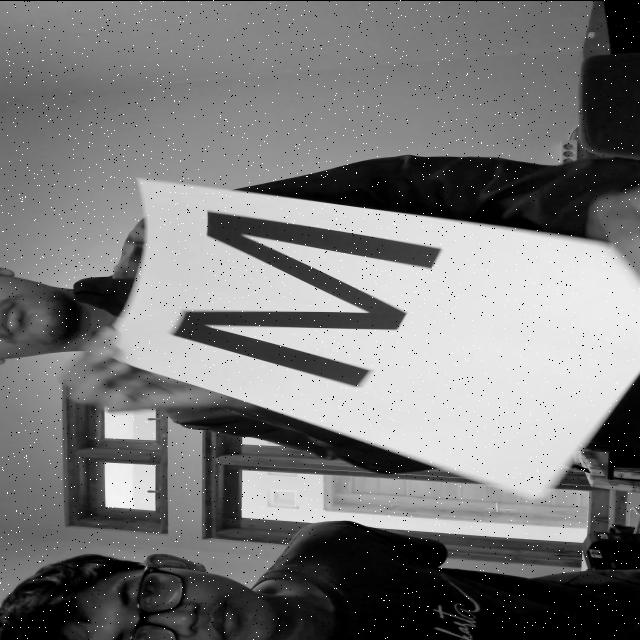m: (162, 205, 450, 390)
